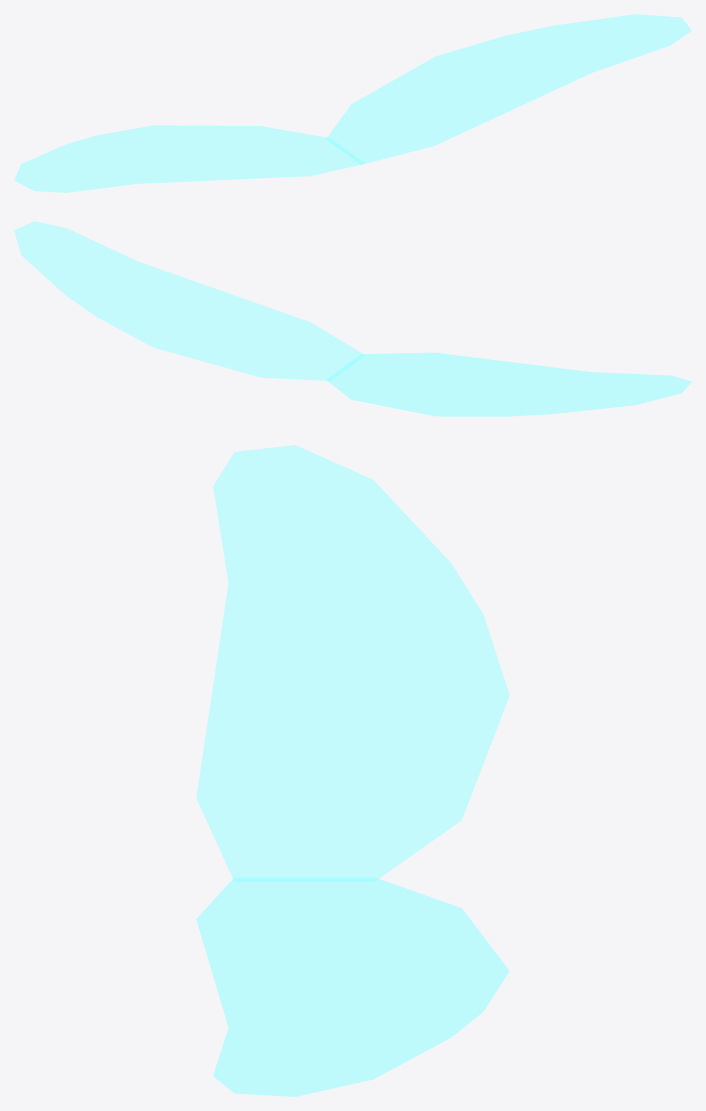
The model's file is WING ANIMATION V.2.glb.
3 renders of one model, top to bottom at view 1: azimuth 30°, elevation 25°; view 2: azimuth 150°, elevation 25°; view 3: azimuth 270°, elevation 25°, orthographic. The views are drawn at different scales.
Visible parts, largest first — view 1: wing!, wing!.001; view 2: wing!, wing!.001; view 3: wing!.001, wing!.
Boxes of the visible parts, box(x1,y1,x2,y2) form: wing!: box(326, 14, 691, 164); wing!.001: box(14, 125, 364, 192); wing!: box(14, 221, 364, 380); wing!.001: box(326, 352, 691, 416); wing!.001: box(196, 445, 509, 881); wing!: box(196, 877, 509, 1096).
Size of the model in its own units: 13.85 by 1.08 by 2.81.
